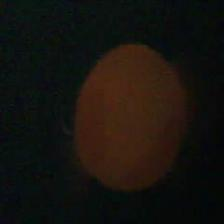fertile: (71, 42, 188, 195)
